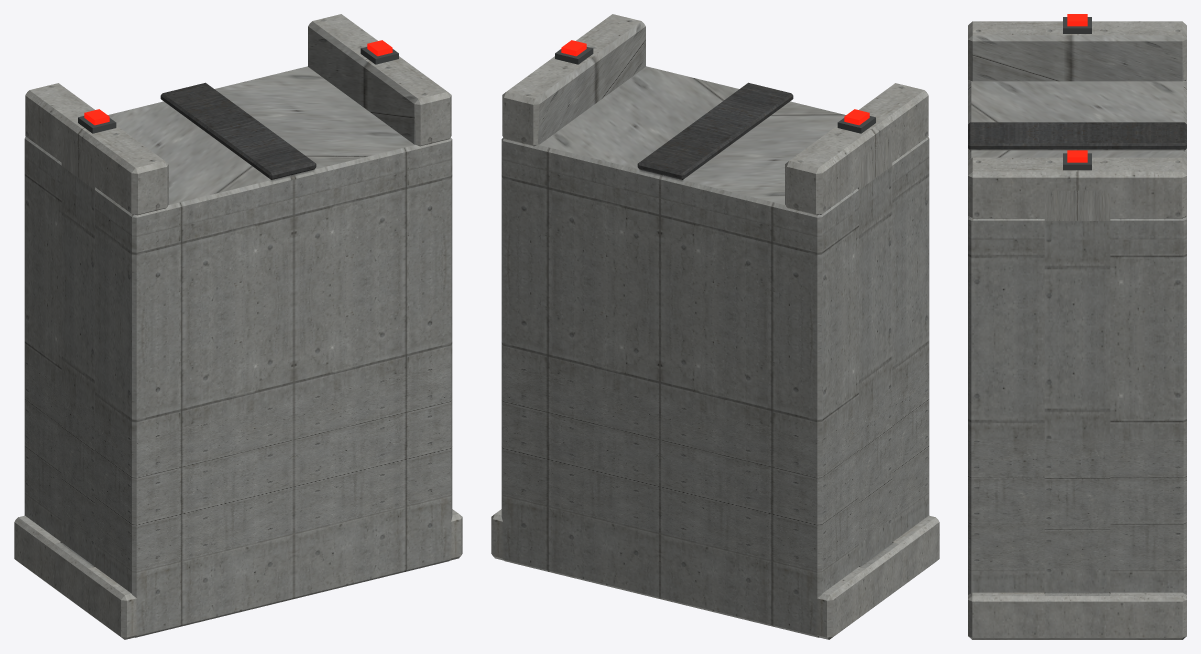
The model's file is half-bay.glb.
3 views of the same model, side by side, from view 1: azimuth 30°, elevation 25°; view 2: azimuth 150°, elevation 25°; view 3: azimuth 270°, elevation 25° (orthographic).
Parts seen in each view (by area): view 1: half-bay-lod0-base0, half-bay-lod0-floor0, half-bay-lod0-roof0; view 2: half-bay-lod0-base0, half-bay-lod0-floor0, half-bay-lod0-roof0; view 3: half-bay-lod0-roof0, half-bay-lod0-base0, half-bay-lod0-floor0.
Part boxes in pixels (x1,y1,x2,y2): half-bay-lod0-base0: (14,359,462,639); half-bay-lod0-floor0: (24,158,452,437); half-bay-lod0-roof0: (24,14,452,236); half-bay-lod0-base0: (491,359,939,639); half-bay-lod0-floor0: (501,158,929,437); half-bay-lod0-roof0: (501,14,929,236); half-bay-lod0-roof0: (968,14,1186,239); half-bay-lod0-base0: (968,437,1186,639); half-bay-lod0-floor0: (968,238,1186,438).
Size of what is drawn, in the model's own units: 32 by 42.97 by 18.
Materials: 5 (3 with a texture image).
